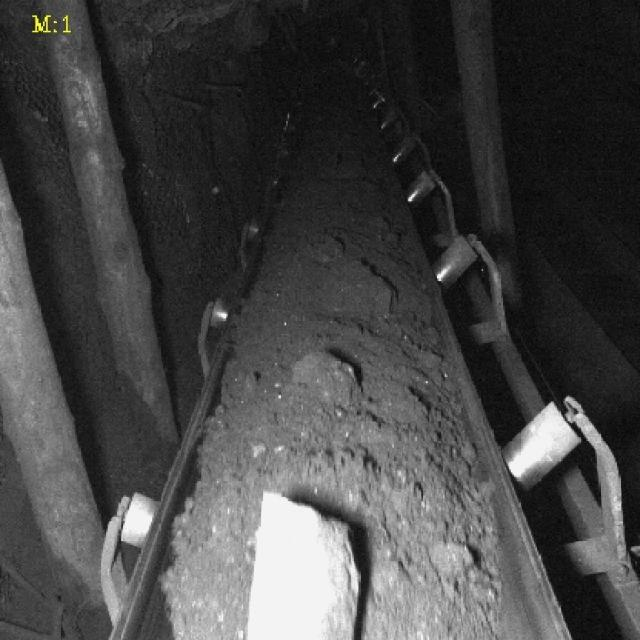large_sized_coal: (245, 492, 369, 640), (294, 357, 366, 417)
